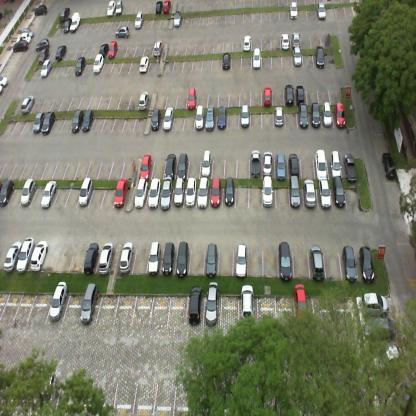car: (371, 341, 403, 380), (48, 278, 68, 321), (204, 279, 221, 327), (80, 282, 98, 325), (363, 320, 396, 343), (40, 368, 57, 412), (360, 292, 389, 317), (16, 236, 35, 274), (384, 385, 408, 415), (293, 280, 309, 324), (358, 242, 375, 283), (240, 284, 255, 325), (30, 240, 49, 272), (3, 240, 22, 272), (188, 284, 202, 326), (278, 239, 292, 281), (342, 244, 357, 282), (133, 176, 150, 209), (98, 240, 114, 275), (113, 175, 129, 209), (40, 178, 58, 208), (20, 176, 38, 206), (310, 244, 324, 282), (147, 175, 162, 210), (176, 239, 189, 279), (84, 240, 99, 274), (78, 174, 93, 208), (119, 240, 134, 273), (205, 242, 219, 277), (234, 242, 248, 277), (381, 149, 396, 181), (0, 176, 16, 206), (162, 240, 176, 274), (148, 240, 161, 276), (160, 175, 173, 210), (333, 175, 346, 209), (317, 179, 332, 208), (185, 176, 198, 209), (41, 109, 57, 135), (197, 176, 209, 210), (315, 148, 328, 179), (261, 176, 273, 209), (210, 176, 222, 209), (344, 153, 357, 183), (288, 176, 300, 208), (303, 178, 316, 207), (70, 107, 85, 132), (173, 177, 185, 208), (20, 92, 36, 115), (81, 106, 95, 132), (176, 151, 189, 178), (139, 151, 152, 178), (334, 101, 347, 128), (32, 109, 46, 134), (164, 150, 177, 176), (250, 147, 261, 177), (150, 106, 162, 132), (225, 175, 235, 206), (276, 150, 286, 180), (201, 149, 212, 176), (298, 102, 309, 129), (240, 101, 250, 130), (205, 103, 215, 132), (330, 151, 341, 177), (262, 149, 273, 175), (138, 90, 150, 113), (310, 102, 321, 127), (163, 106, 174, 131), (195, 103, 205, 130), (322, 100, 332, 126), (283, 81, 294, 104), (92, 53, 104, 74), (288, 151, 298, 175), (315, 44, 325, 68), (217, 103, 226, 129), (70, 10, 80, 33), (40, 58, 52, 77), (114, 25, 130, 39), (187, 87, 197, 109), (252, 47, 262, 69), (317, 1, 327, 22), (275, 103, 284, 126), (12, 39, 29, 51), (75, 56, 85, 76), (106, 0, 117, 18), (35, 37, 49, 51), (134, 10, 144, 29), (138, 56, 149, 73), (264, 84, 272, 107), (33, 3, 48, 15), (38, 46, 48, 64), (241, 33, 251, 51), (296, 82, 304, 104), (290, 0, 299, 19), (107, 41, 117, 58), (280, 33, 290, 50), (58, 7, 69, 22), (55, 45, 66, 60), (293, 49, 302, 67), (17, 32, 31, 43), (153, 40, 162, 57), (222, 52, 230, 70), (0, 72, 8, 90), (63, 18, 72, 33), (162, 0, 171, 15), (99, 42, 110, 54), (21, 26, 34, 36), (154, 0, 163, 14), (115, 0, 123, 15), (292, 31, 300, 46), (173, 10, 180, 27)
